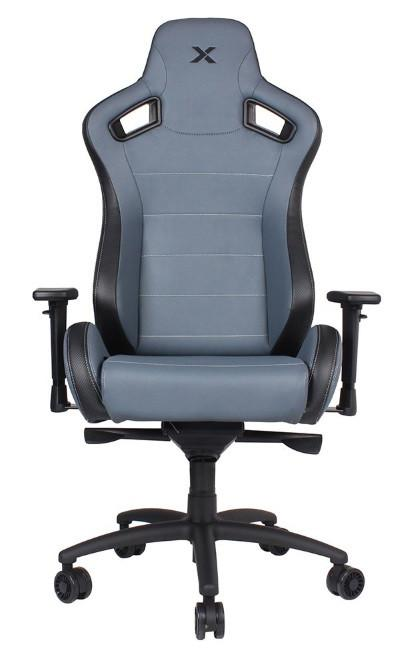chair: (23, 13, 392, 648)
